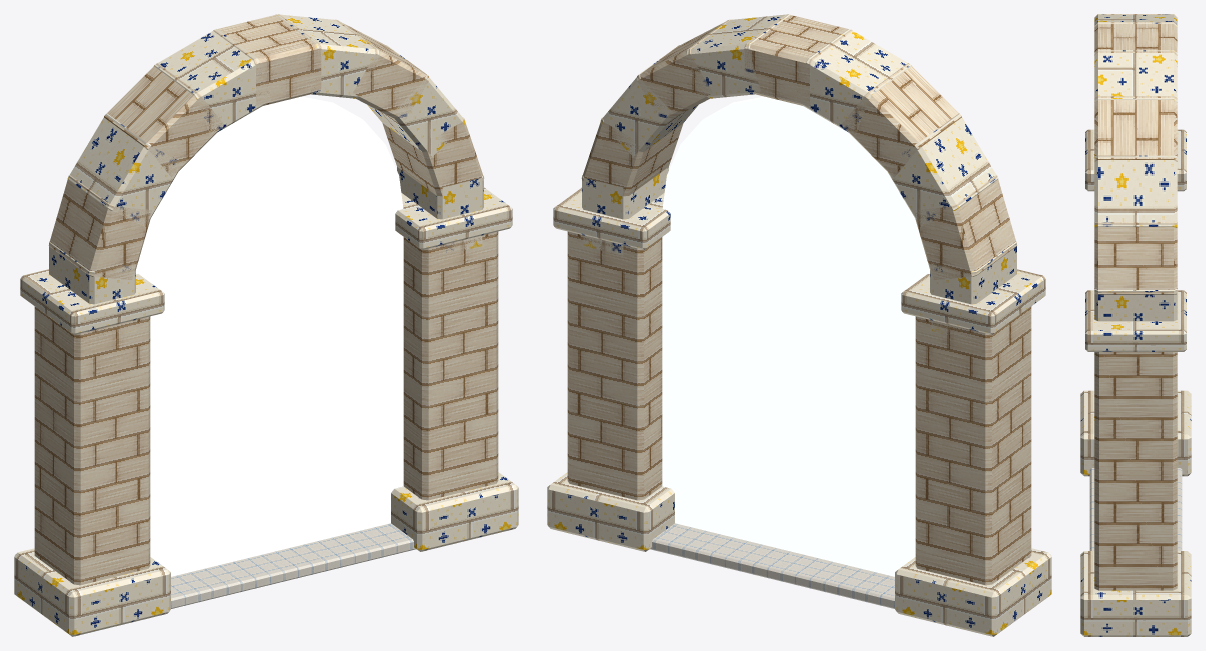
The model's file is tower_portal.glb.
3 renders of one model, left to right at view 1: azimuth 30°, elevation 25°; view 2: azimuth 150°, elevation 25°; view 3: azimuth 270°, elevation 25°, orthographic. The views are drawn at different scales.
Visible parts, largest first — view 1: Arch, Glow; view 2: Arch, Glow; view 3: Arch.
Boxes of the visible parts, <box> form: Arch: <box>14,14,518,636</box>; Glow: <box>136,96,403,576</box>; Arch: <box>547,14,1051,636</box>; Glow: <box>662,96,929,576</box>; Arch: <box>1080,14,1191,636</box>.
Size of the model in its own units: 5.3 by 5.93 by 1.2.
4 materials, 3 textured.
